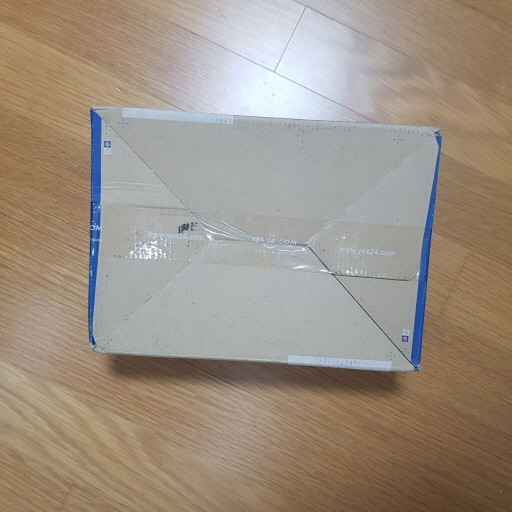Paper_0: (84, 94, 446, 387)
